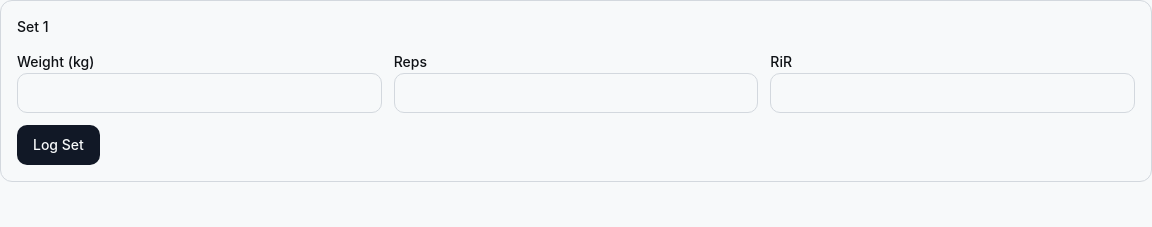
Test case: SetInput › shows validation error when weight is empty
The image size is (1152, 227).
Step 1. Click the button "Log Set" → (58, 145), box [17,125,100,165]
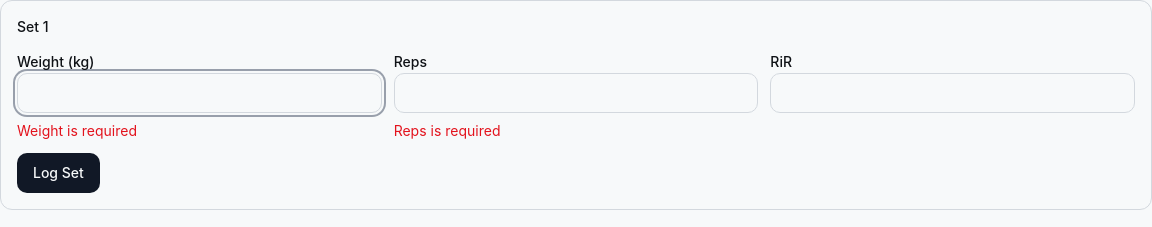
Check: the text "Weight is required" is shown, box [17,122,137,139]
